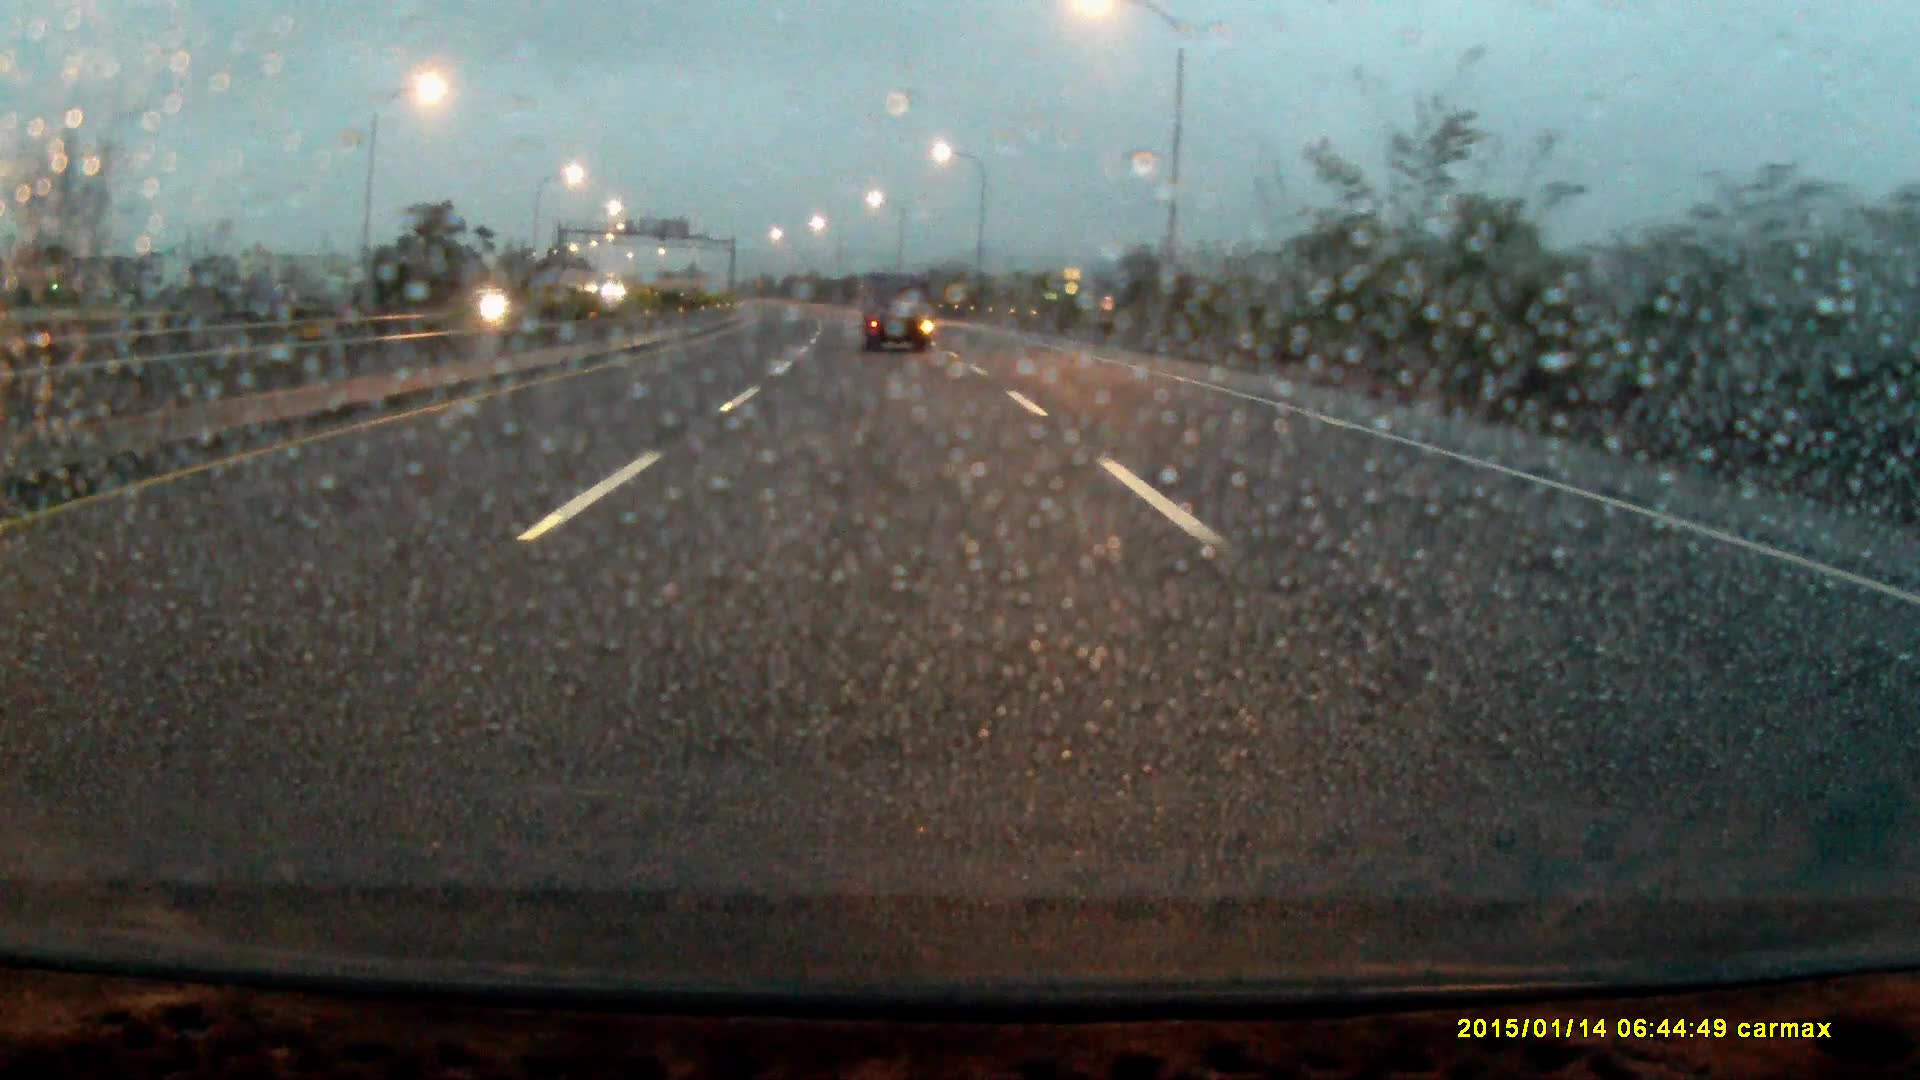vehicle: (861, 269, 932, 352), (458, 284, 525, 320)
